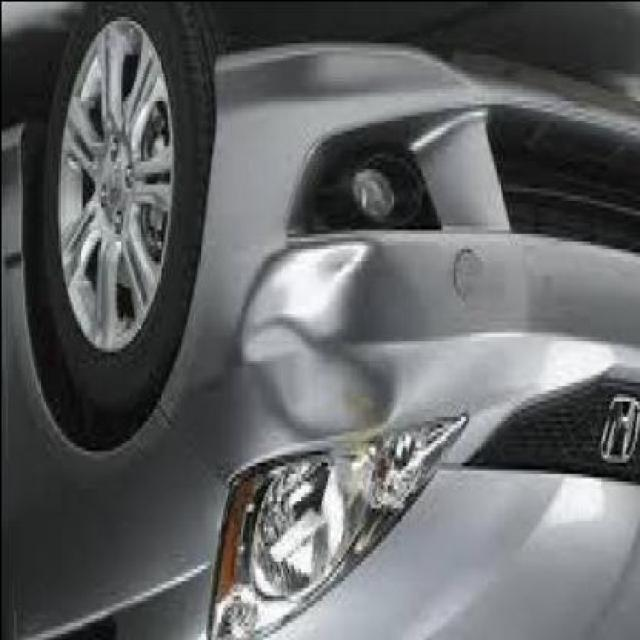damage: (224, 237, 407, 455), (446, 241, 479, 306)
